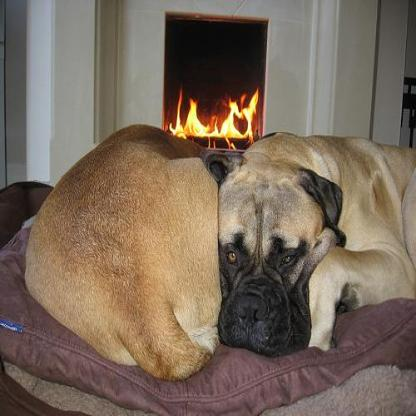bull_mastiff: (22, 121, 221, 378), (196, 135, 414, 352)
